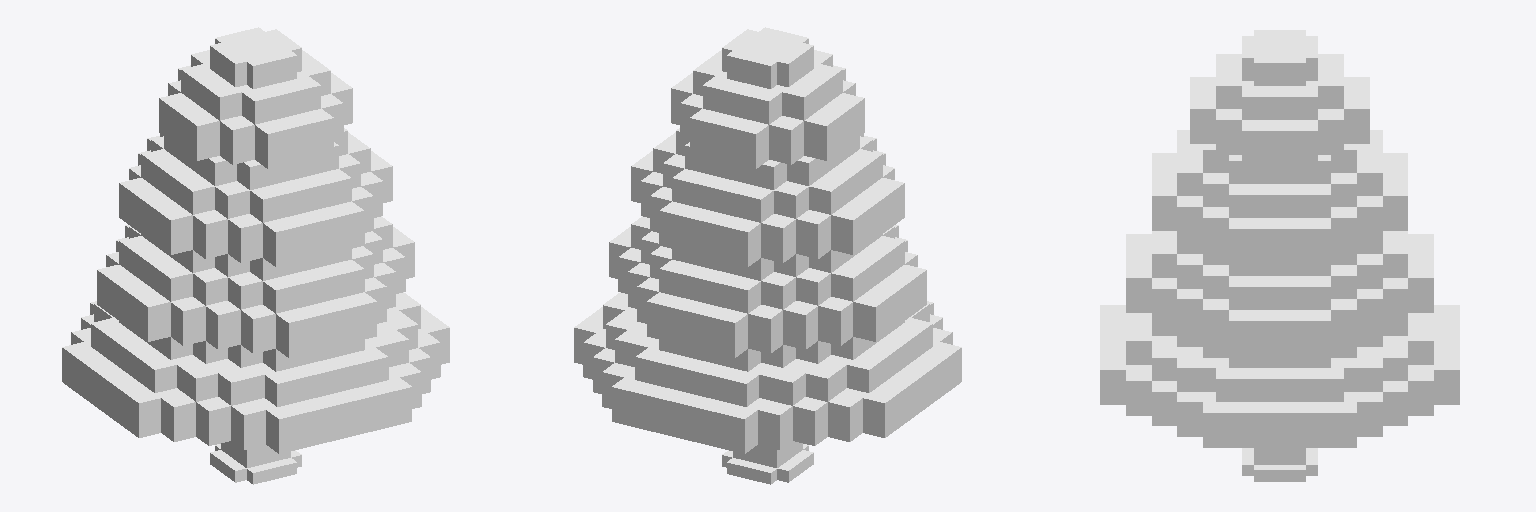
The model's file is tree4.vox.obj.
The picture shows the model from 3 angles: view 1: azimuth 30°, elevation 25°; view 2: azimuth 150°, elevation 25°; view 3: azimuth 270°, elevation 25°; orthographic projection.
Visible parts, largest first — view 1: object 1; view 2: object 1; view 3: object 1.
Part boxes in pixels (x1,y1,x2,y2): object 1: (62,27,449,484); object 1: (574,27,961,484); object 1: (1100,30,1459,481).
Size of the model in its own units: 2.8 by 3.6 by 2.8.